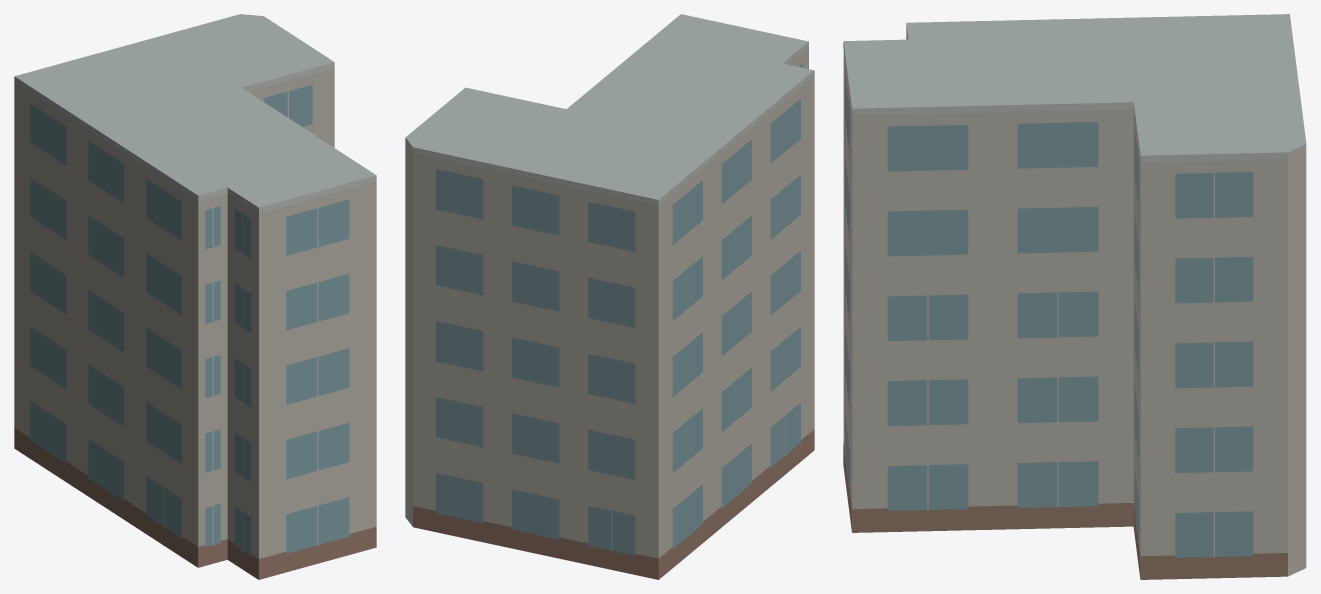
File: survey-upis-32616415.glb
3 renders of one model, left to right at view 1: azimuth 30°, elevation 25°; view 2: azimuth 150°, elevation 25°; view 3: azimuth 270°, elevation 25°, orthographic. The views are drawn at different scales.
Parts seen in each view (by area): view 1: survey-upis-32616415.tmp; view 2: survey-upis-32616415.tmp; view 3: survey-upis-32616415.tmp.
Boxes of the visible parts, box(x1,y1,x2,y2) form: survey-upis-32616415.tmp: box(14, 14, 376, 579); survey-upis-32616415.tmp: box(405, 14, 814, 579); survey-upis-32616415.tmp: box(843, 14, 1306, 579).
Size of the model in its own units: 10.86 by 15.15 by 14.99.
